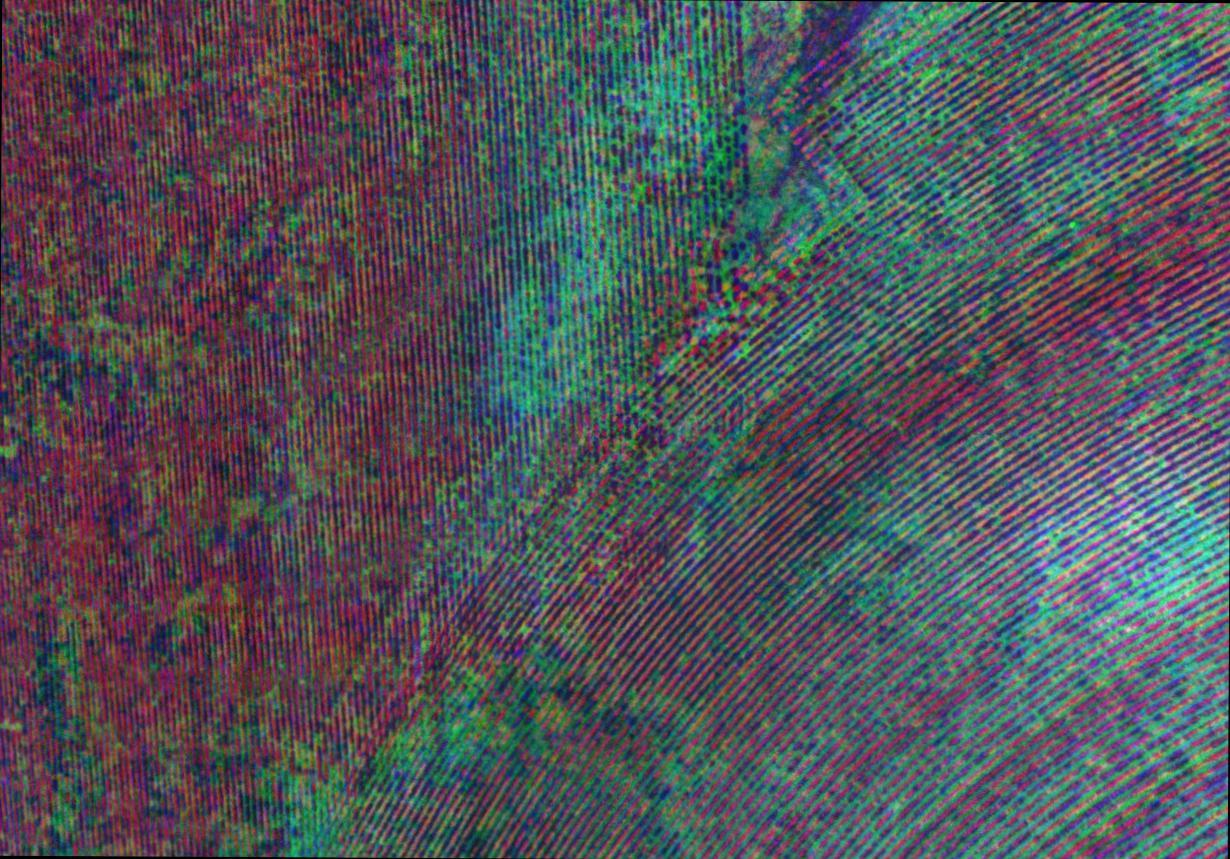dc: (570, 74, 686, 189), (500, 299, 600, 406), (1117, 518, 1203, 623), (278, 758, 357, 854), (885, 469, 949, 549)
